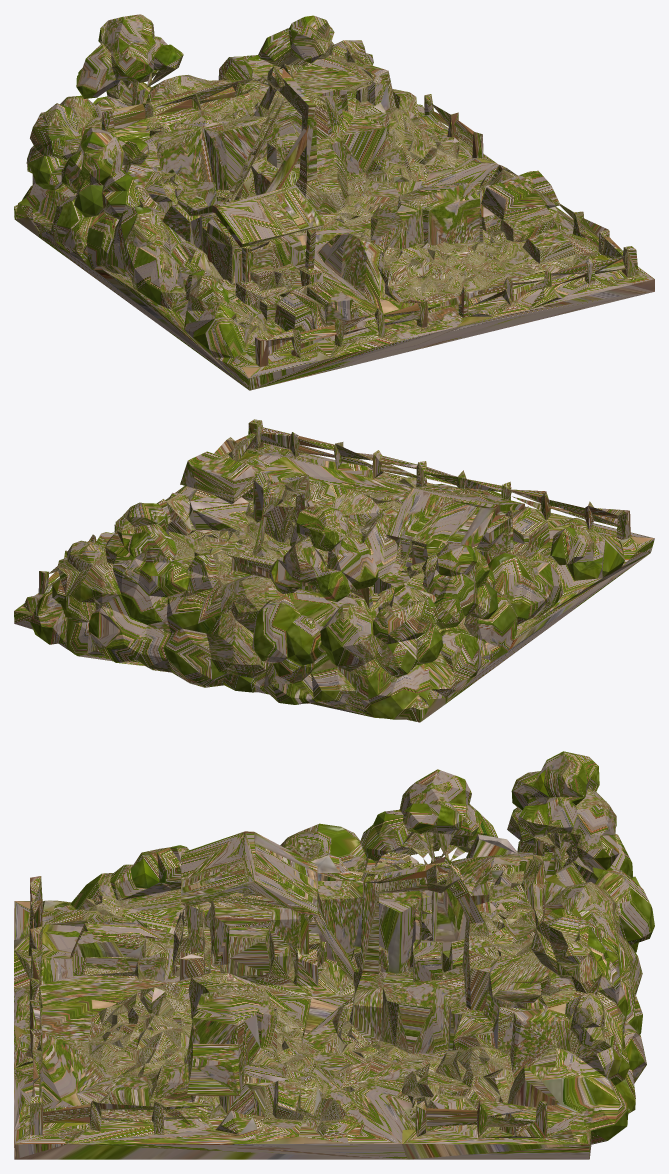
File: quarry.glb
3 views of the same model, one above another, from view 1: azimuth 30°, elevation 25°; view 2: azimuth 150°, elevation 25°; view 3: azimuth 270°, elevation 25° (orthographic). The views are drawn at different scales.
Visible parts, largest first — view 1: normalize; view 2: normalize; view 3: normalize.
Part boxes in pixels (left/top/right/bottom): normalize: left=14, top=14, right=654, bottom=390; normalize: left=14, top=419, right=654, bottom=722; normalize: left=14, top=751, right=654, bottom=1159.
Size of the model in its own units: 0.9144 by 0.3892 by 1.
1 material, 1 textured.
